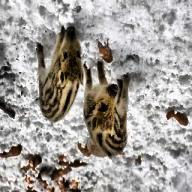boar: (36, 26, 84, 123), (82, 62, 129, 160)
